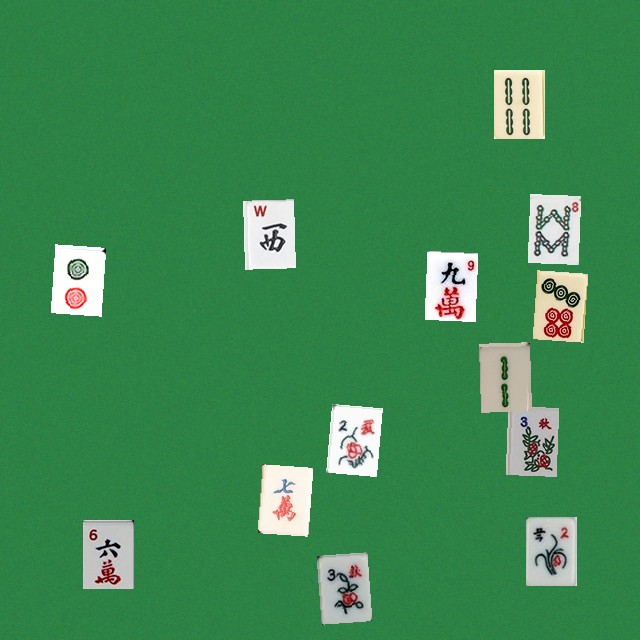tile: (82, 519, 133, 588), (505, 406, 556, 475), (50, 244, 101, 313), (493, 69, 544, 138), (532, 270, 583, 339), (527, 194, 578, 263), (243, 199, 294, 268), (257, 464, 308, 533), (478, 342, 529, 411), (316, 552, 367, 621), (326, 403, 377, 472), (424, 250, 475, 319), (525, 516, 576, 585)
